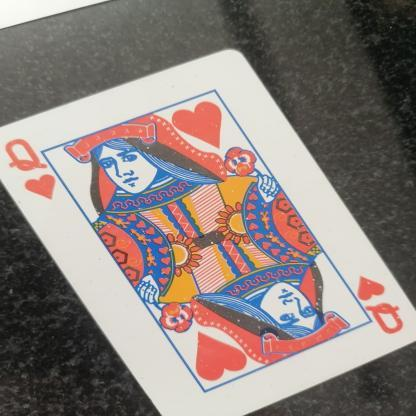QH: (344, 266, 412, 350), (1, 129, 60, 211)
